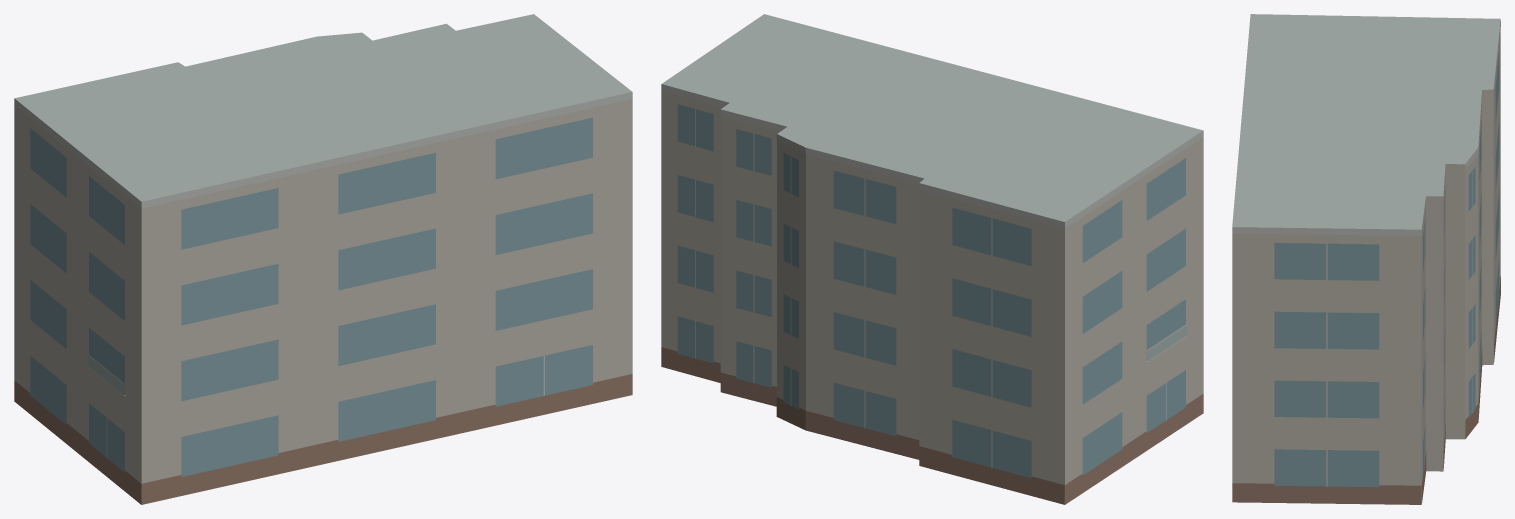
Rendered from survey-upis-32972912.glb.
3 views of the same model, side by side, from view 1: azimuth 30°, elevation 25°; view 2: azimuth 150°, elevation 25°; view 3: azimuth 270°, elevation 25° (orthographic). The views are drawn at different scales.
Parts seen in each view (by area): view 1: survey-upis-32972912.tmp; view 2: survey-upis-32972912.tmp; view 3: survey-upis-32972912.tmp.
Boxes of the visible parts, x1,y1,x2,y2 form: survey-upis-32972912.tmp: [14, 14, 632, 504]; survey-upis-32972912.tmp: [661, 14, 1203, 504]; survey-upis-32972912.tmp: [1232, 14, 1500, 504].
Size of the model in its own units: 17.82 by 10.6 by 9.39.
